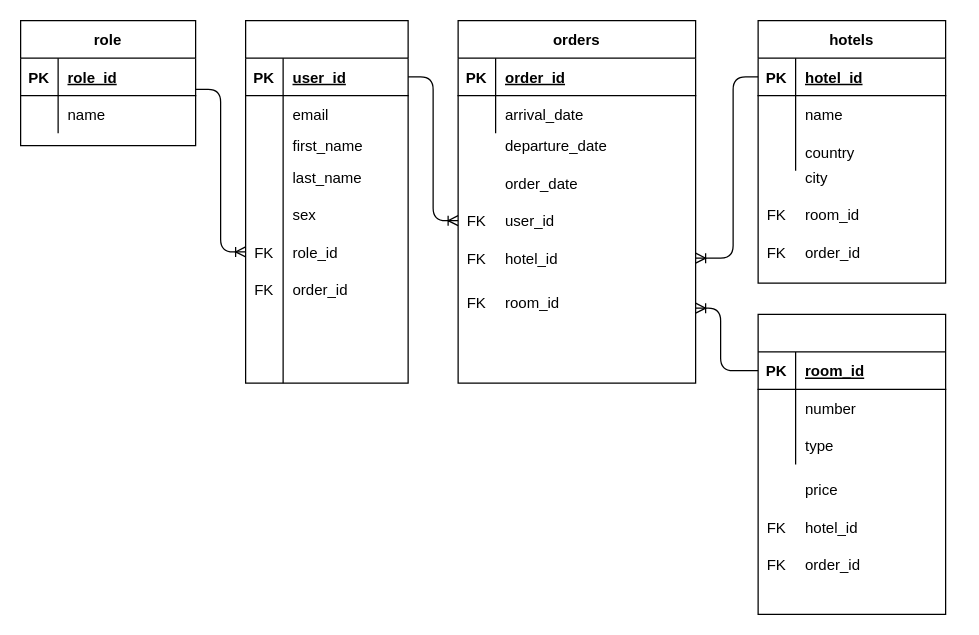
This 979x635 diagram has some shape labels left out. The box of each missing label's shape, as (x1, y1, x2, y2) in pixels:
rooms: (757, 313, 946, 614)
users: (244, 19, 408, 383)
